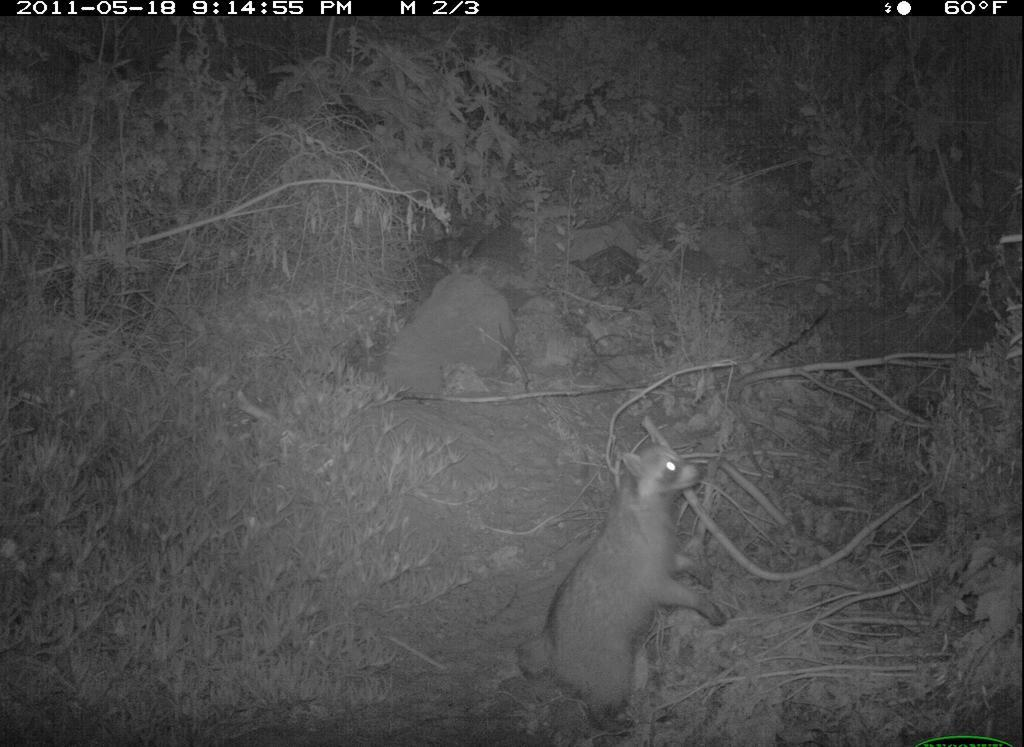raccoon: (513, 438, 734, 733)
